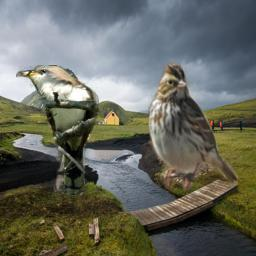Cuckoo: (16, 65, 99, 195)
Sparrow: (145, 62, 238, 192)
